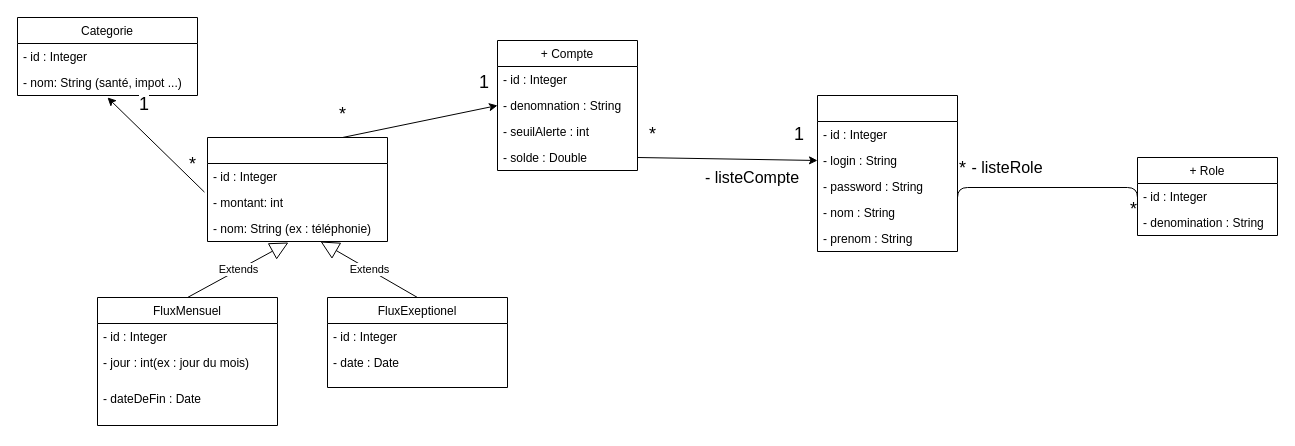
Some shapes in this 1295 by 446 pixel diagram are drawn without their labels. Each missing label, with the box of its shape:
+ Flux: (206, 136, 388, 242)
+ Utilisateur: (816, 94, 958, 252)
